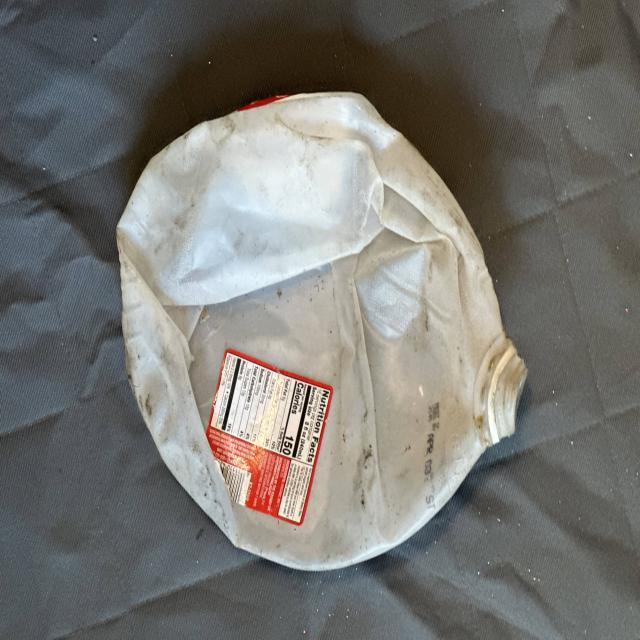milk-jug: (118, 88, 529, 560)
